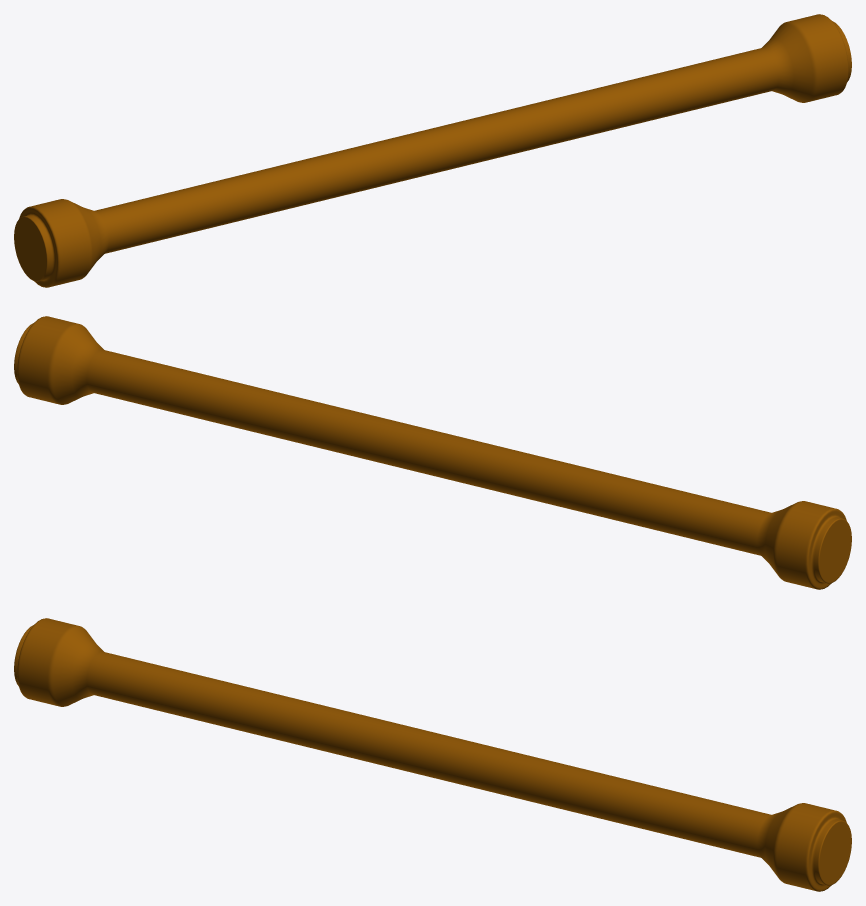
The model's file is Tube_Lamp_02.fbx.
3 views of the same model, one above another, from view 1: azimuth 30°, elevation 25°; view 2: azimuth 150°, elevation 25°; view 3: azimuth 330°, elevation 25° (orthographic).
Visible parts, largest first — view 1: Tube Lamp 02; view 2: Tube Lamp 02; view 3: Tube Lamp 02.
Part boxes in pixels (<box>): Tube Lamp 02: <box>14,14,851,287</box>; Tube Lamp 02: <box>14,316,851,589</box>; Tube Lamp 02: <box>14,618,851,891</box>.
Bounding box in the file's own units: 166 × 14.86 × 14.86.
